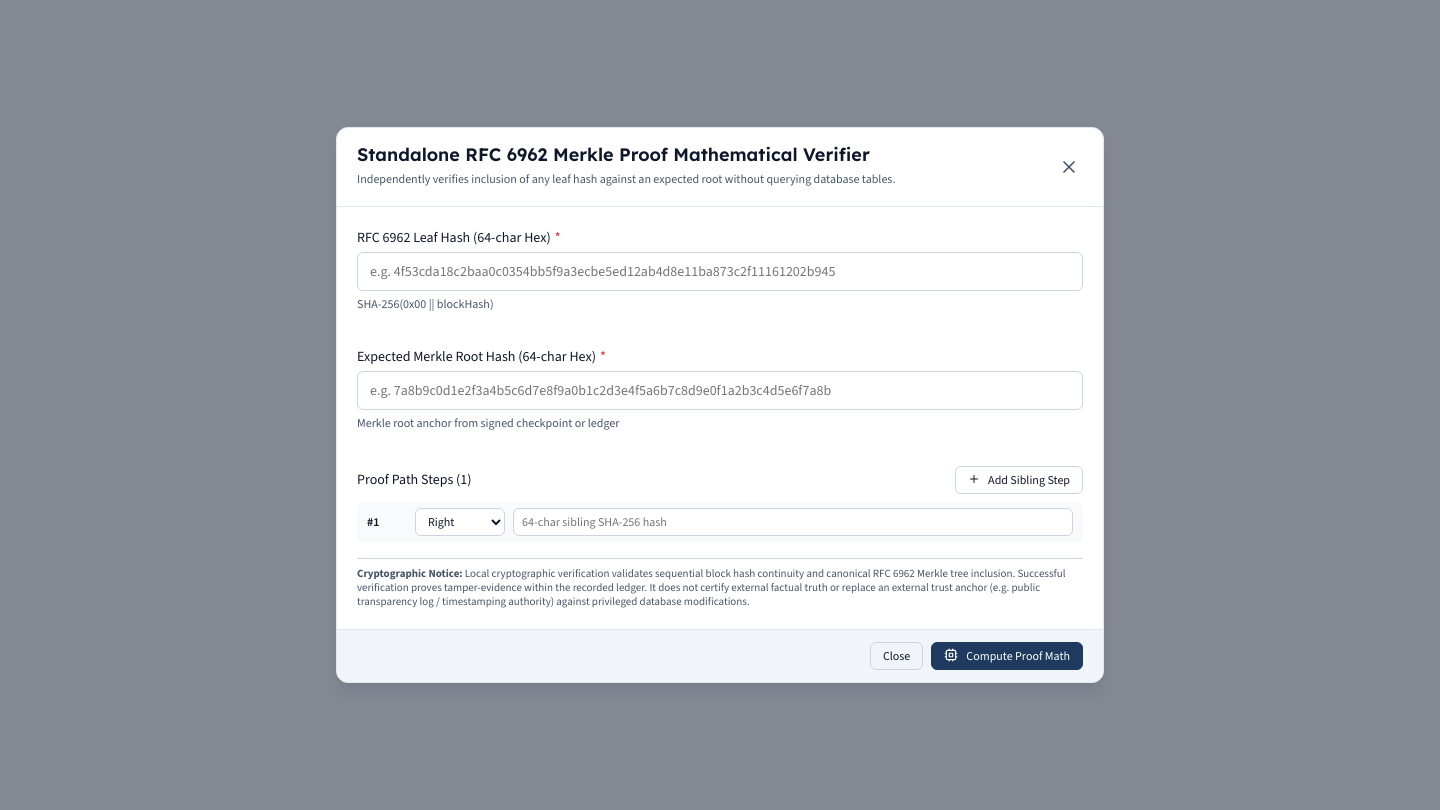
Test: Audit Components (FE-07) › StandaloneProofVerifierModal › validates 64-character hex inputs and executes standalone verification
This screenshot has width=1440, height=810.
Expected: the heading "Standalone RFC 6962 Merkle Proof Mathematical Verifier" is shown, [357,144,895,166]
Step 1. Replace the text in the field with placeholder "e.g. 4f53cda18c2baa0c0354bb5f9a3ecbe5ed12ab4d8e11ba873c2f11161202b945" with "b564344db1c68f23f81e3a6c230f36f32e65d83637e199d36378e9f59f6356b2" → coordinates (720, 271), box [357,252,1083,290]
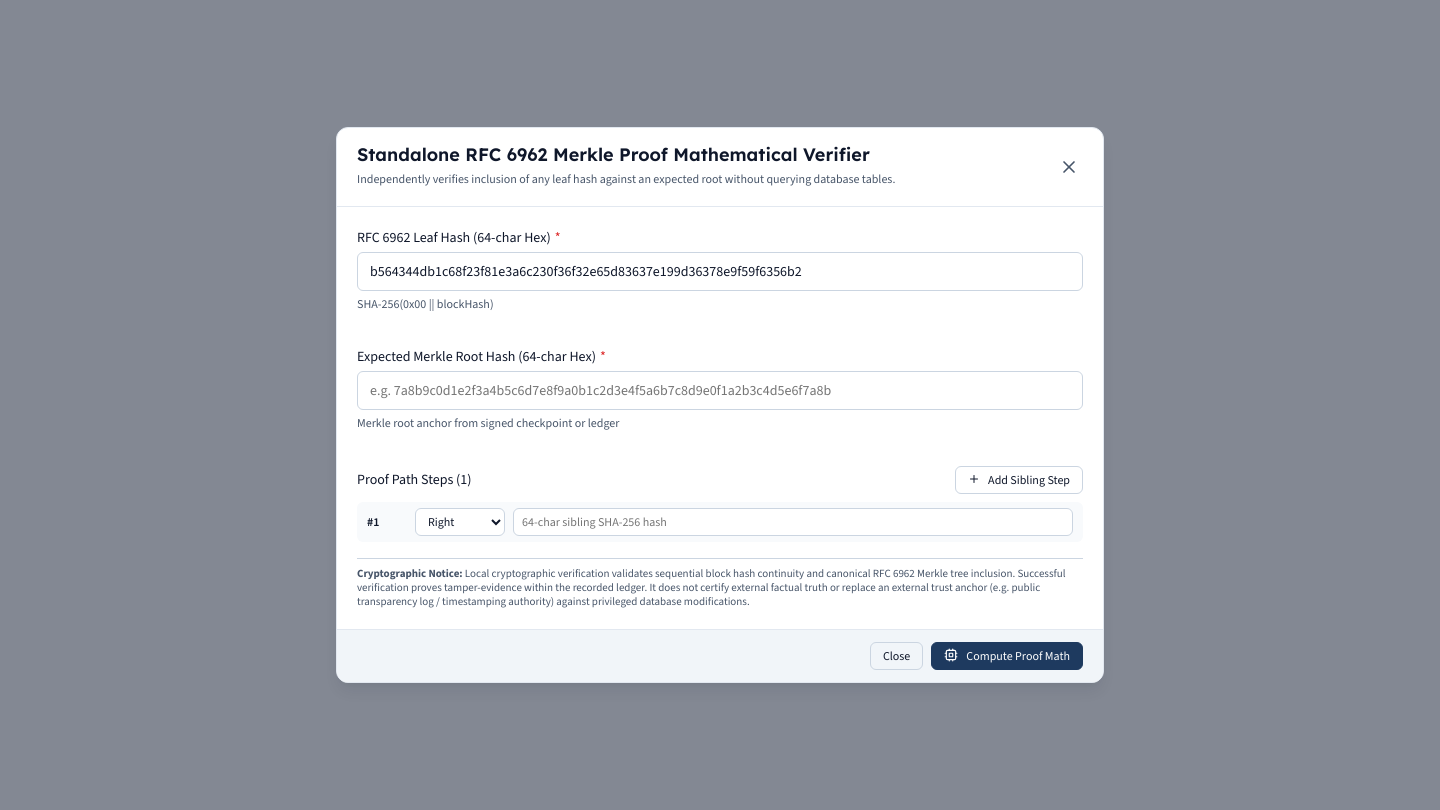
Step 2. Replace the text in the field with placeholder "e.g. 7a8b9c0d1e2f3a4b5c6d7e8f9a0b1c2d3e4f5a6b7c8d9e0f1a2b3c4d5e6f7a8b" with "9f83a48e89cf21e90d7967b55f723e71d3e849c716e4e541320ef457b87640f1" → coordinates (720, 390), box [357,371,1083,410]
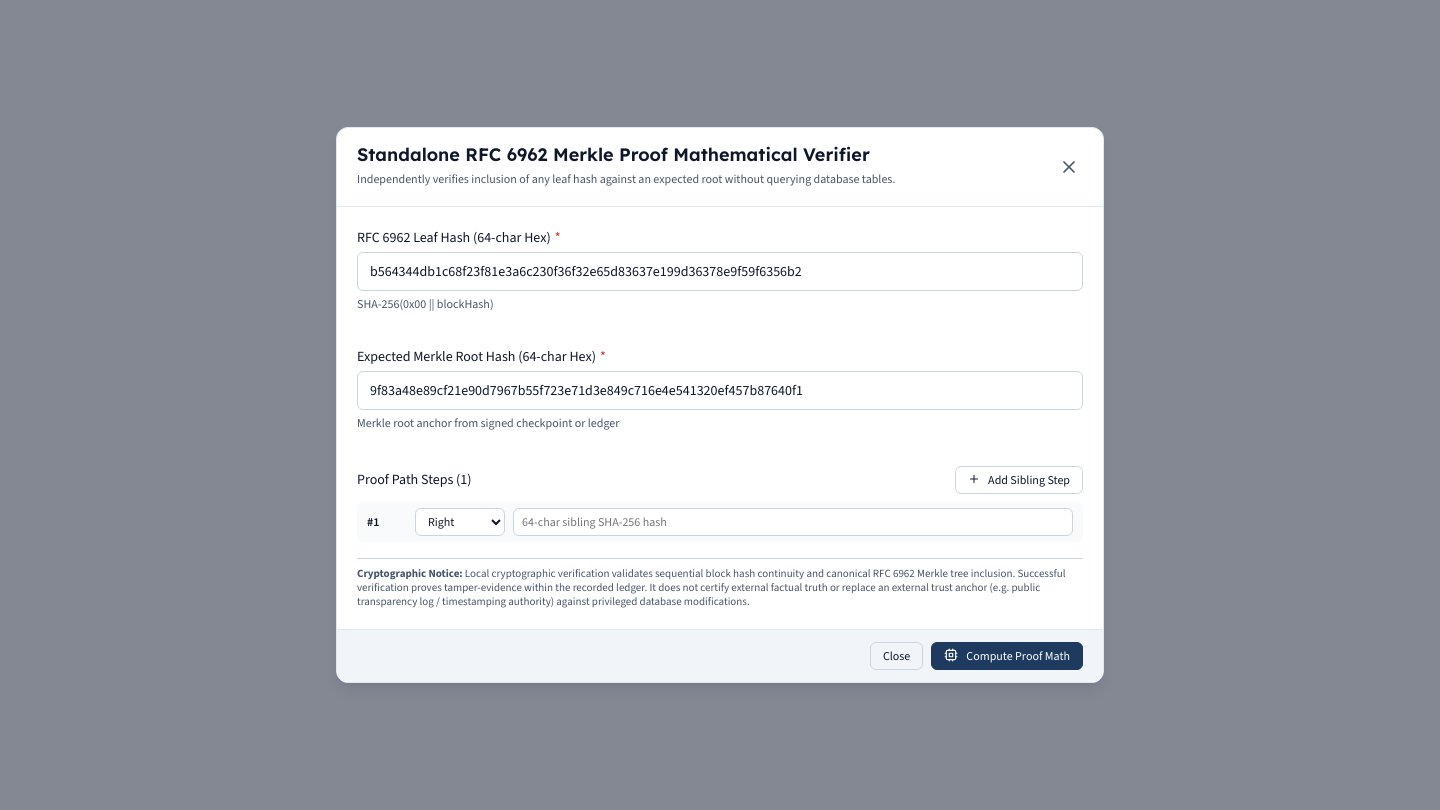
Note: Enter proof step hash
Step 3. Type "6a5b4c3d2e1f0a9b8c7d6e5f4a3b2c1d0e9f8a7b6c5d4e3f2a1b0c9d8e7f6a5b" into the field with placeholder "64-char sibling SHA-256 hash" → coordinates (793, 522), box [513,508,1073,536]
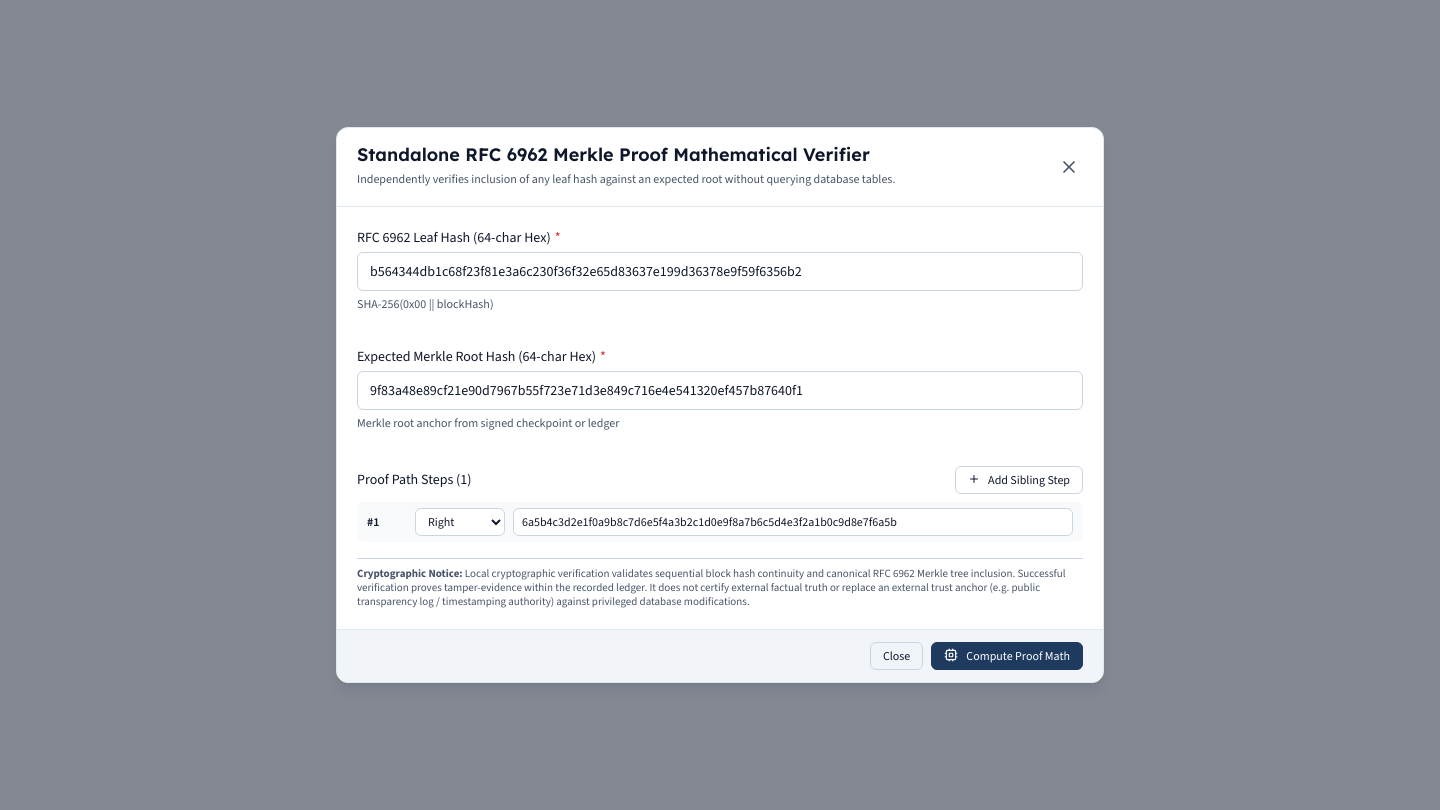
Step 4. Click the button "Compute Proof Math" → coordinates (1007, 656), box [931,642,1083,670]
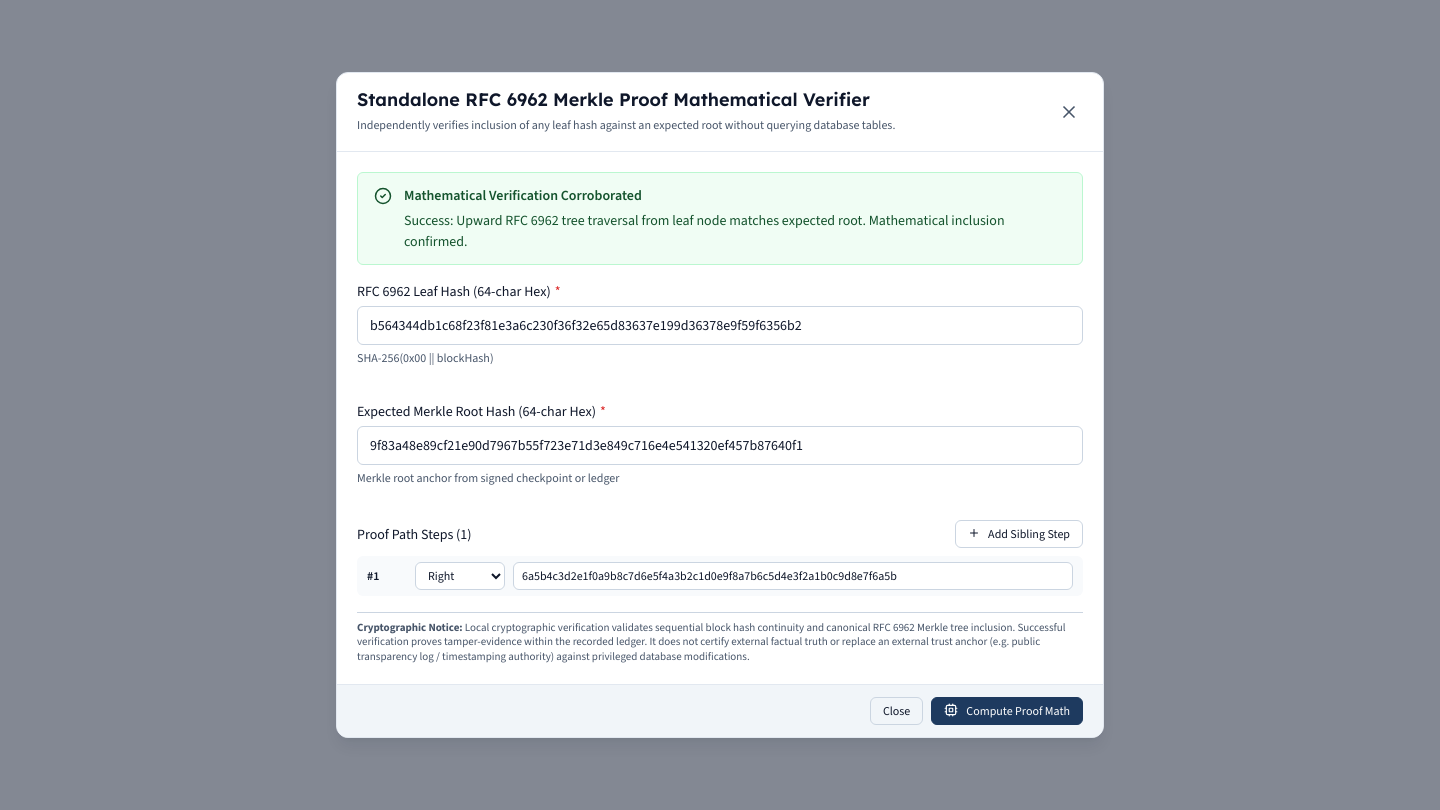
Expected: the text "Mathematical Verification Corroborated" is shown, [404,186,642,205]
